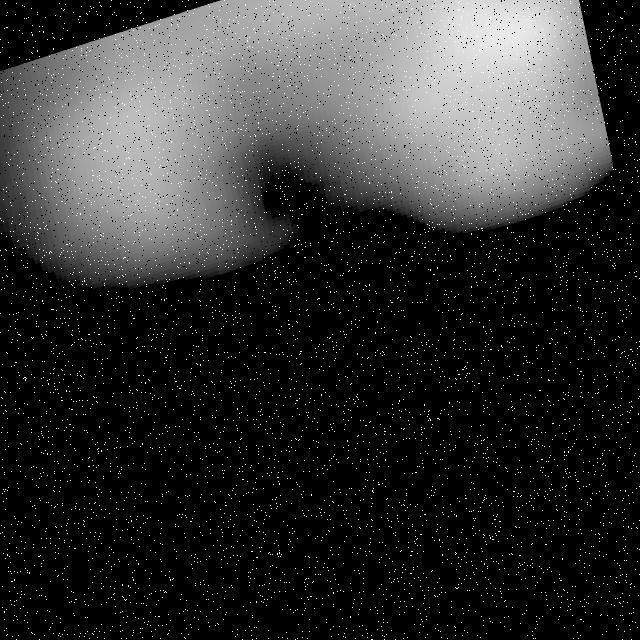person: (1, 1, 626, 366)
